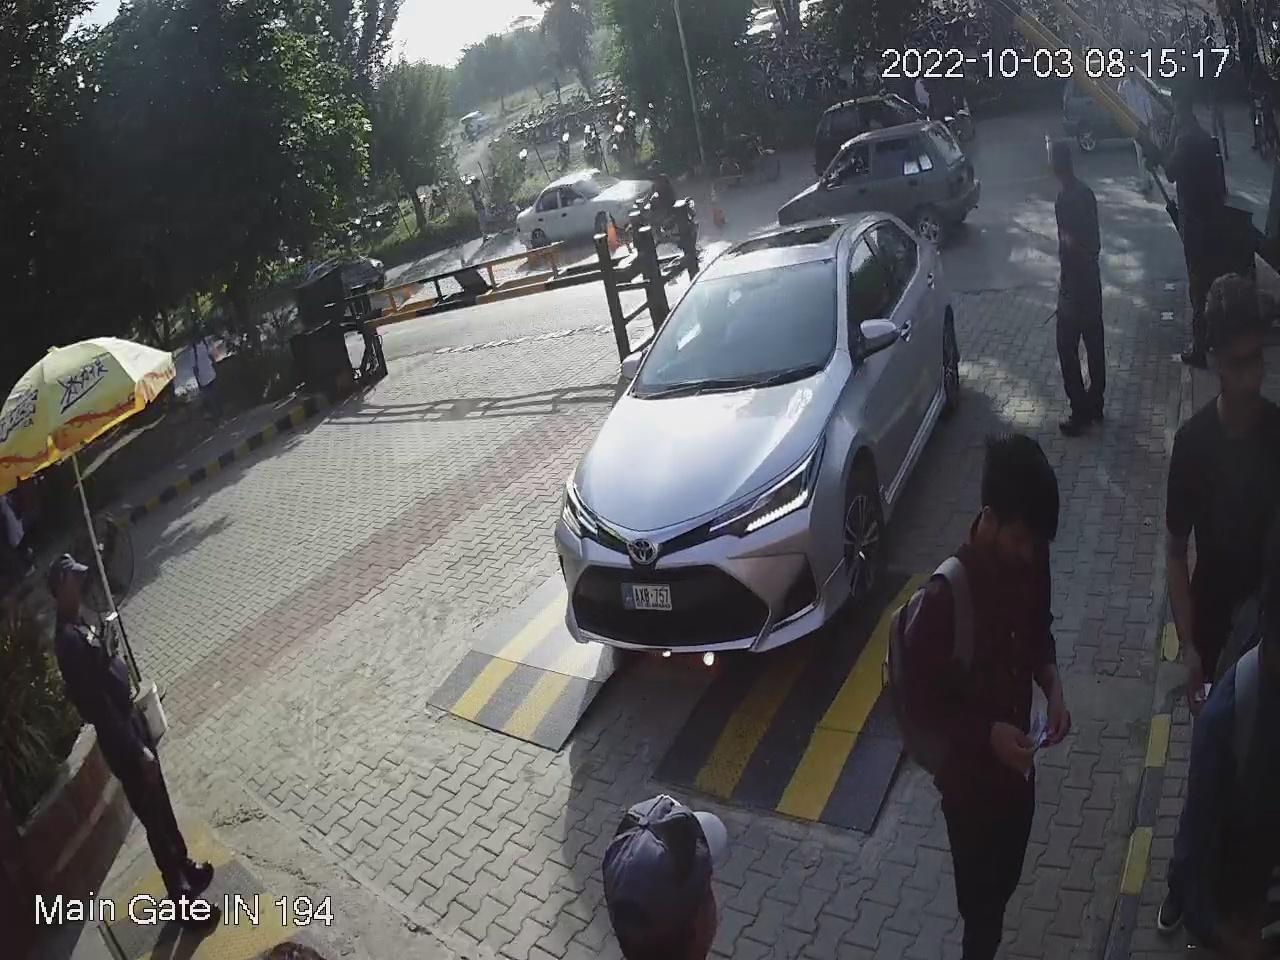windshield: (626, 238, 838, 390)
